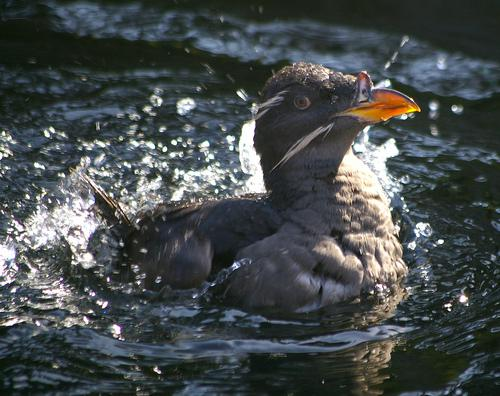008.Rhinoceros_Auklet: (79, 61, 422, 329)
